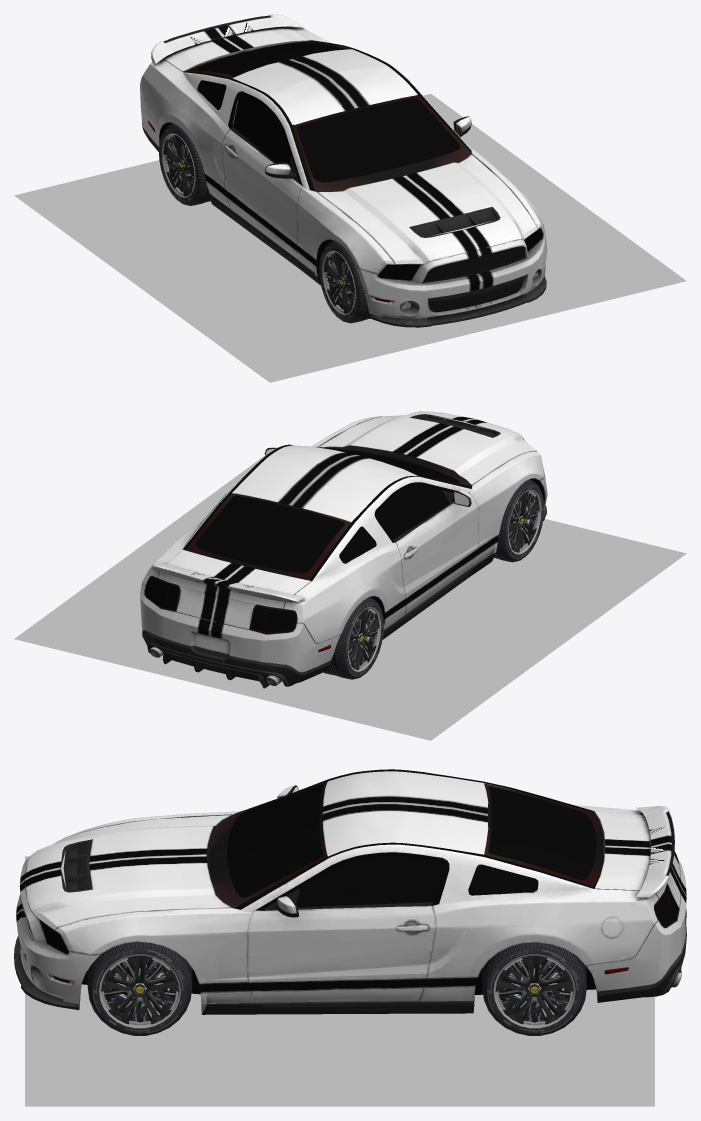
File: Car10.fbx
3 renders of one model, top to bottom at view 1: azimuth 30°, elevation 25°; view 2: azimuth 150°, elevation 25°; view 3: azimuth 270°, elevation 25°, orthographic. The views are drawn at different scales.
Parts seen in each view (by area): view 1: Body, Shadow, Windows, Lights, RR, FR; view 2: Body, Shadow, Windows, RR, FR, Lights; view 3: Body, Shadow, Windows, FL, RL, Lights.
Part boxes in pixels (x1,y1,x2,y2): Body: (140,14,547,327); Shadow: (14,94,686,382); Windows: (196,42,542,280); Lights: (163,15,538,312); RR: (159,123,210,205); FR: (319,240,372,323); Body: (140,411,547,688); Shadow: (14,455,686,740); Windows: (144,447,460,632); RR: (323,597,383,679); FR: (494,479,544,562); Lights: (152,448,471,641); Body: (14,769,686,1014); Shadow: (25,856,654,1106); Windows: (40,784,678,954); FL: (87,941,192,1035); RL: (482,942,586,1035); Lights: (24,781,678,999).
Size of the model in its own units: 411 by 137 by 467.
